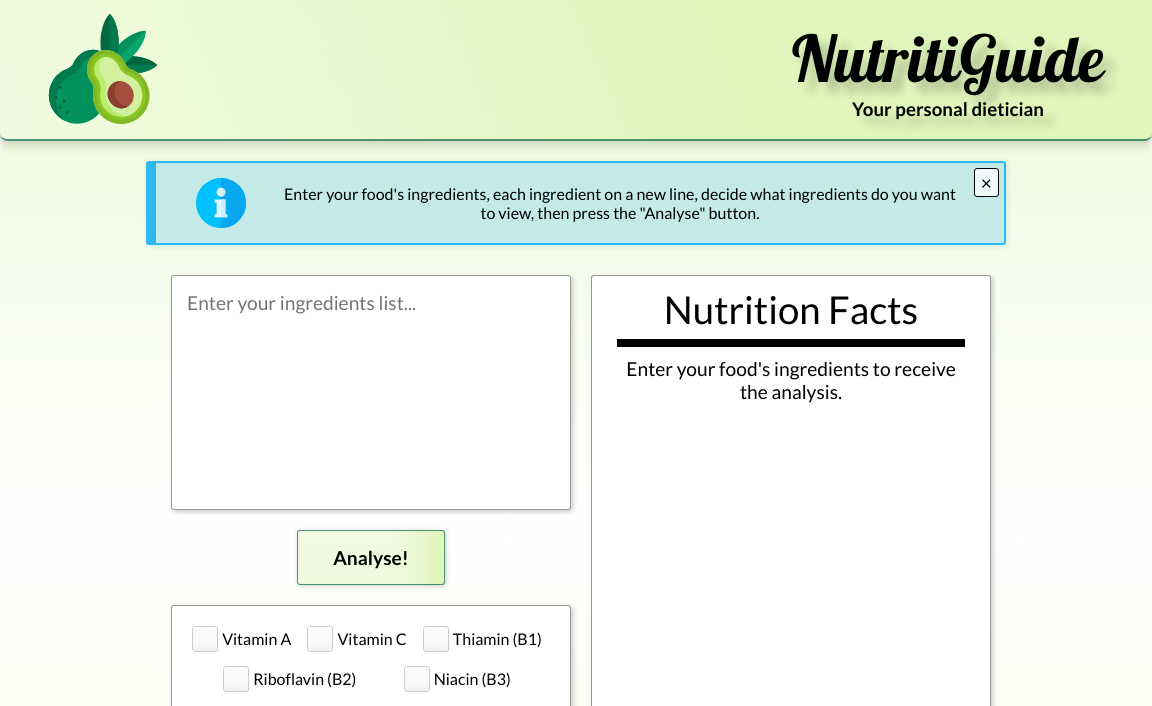
Test case: Testing the notifications › renders the warning notification when the Analyse button is clicked, but the passed input value is empty
The width and height of the screenshot is (1152, 706).
Click the button "Analyse!": (371, 557) top-left (297, 530), bottom-right (445, 585)
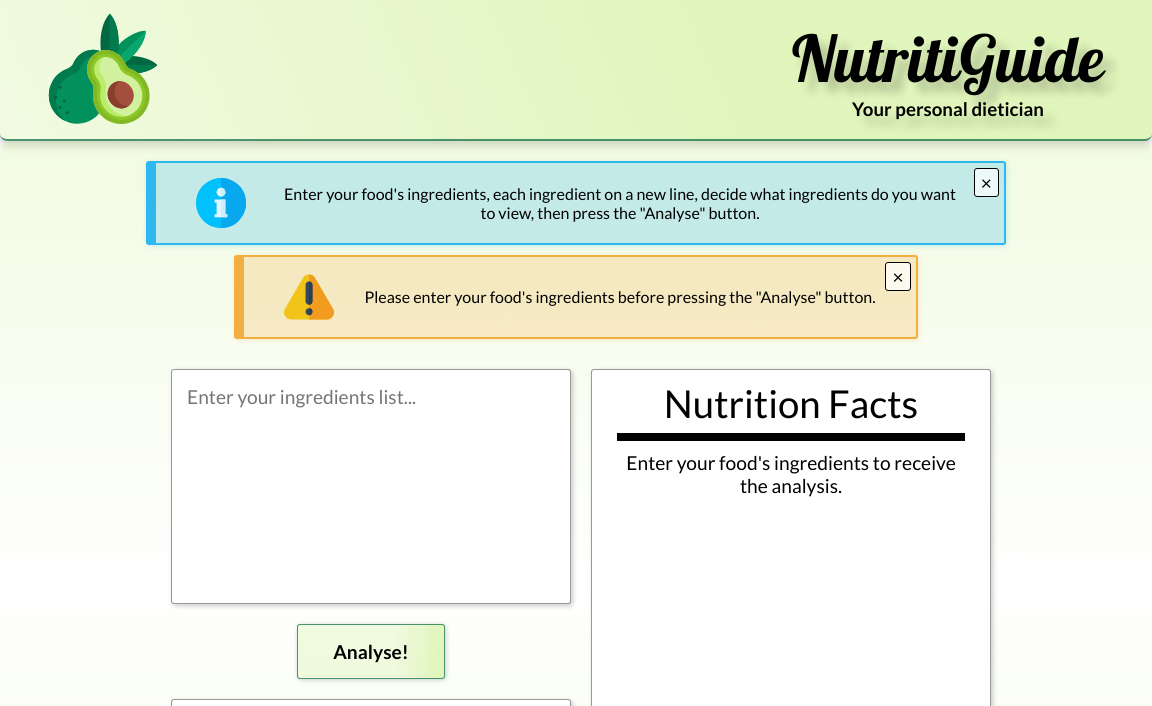
Now the list item "Please enter your food's ingredients" is shown, box top-left (364, 287), bottom-right (876, 306)
